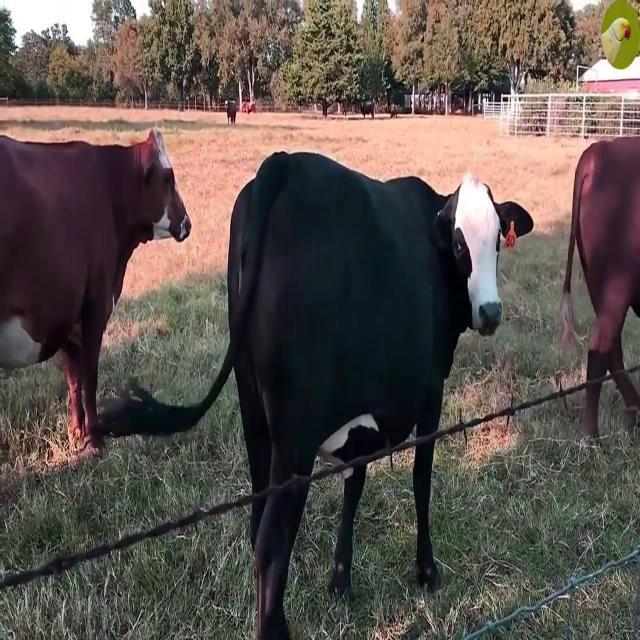cow: (101, 154, 532, 639), (0, 130, 191, 453), (564, 138, 640, 437)
